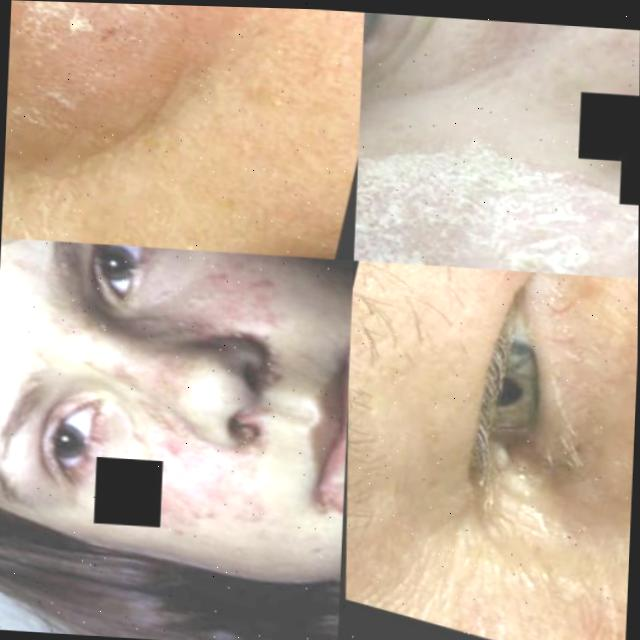lupus-detected: (11, 323, 338, 619), (352, 84, 639, 278), (2, 0, 264, 211), (66, 242, 353, 428), (230, 301, 352, 593), (534, 272, 638, 534)
